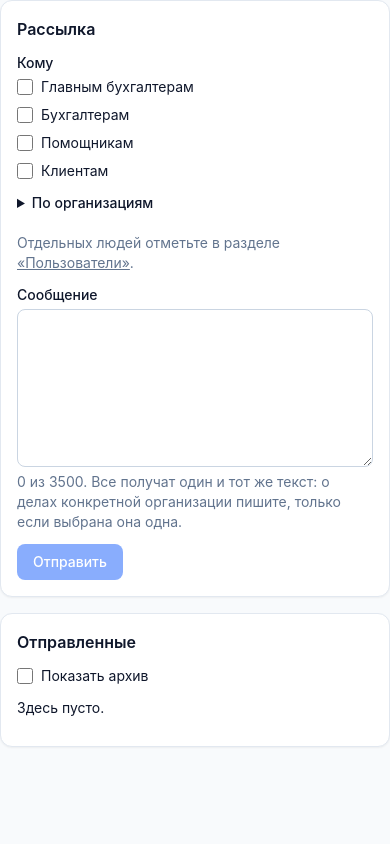
рассылка › отправляет по организациям, по умолчанию клиентам
Click the heading "По организациям": point(93, 202) x1=32 y1=194 x2=153 y2=211
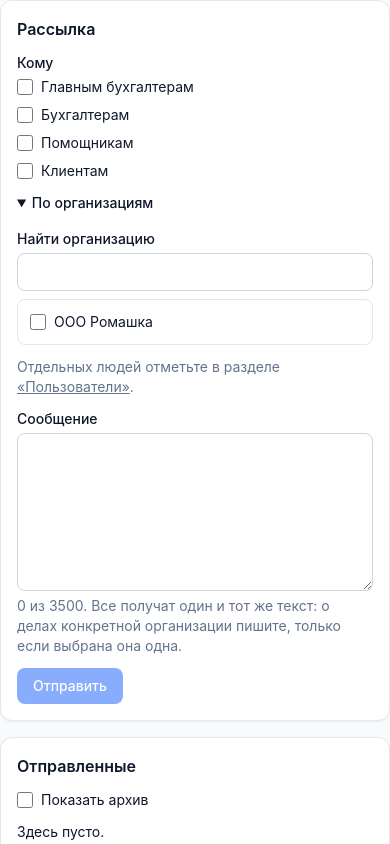
Click the checkbox labelled "ООО Ромашка": point(38, 322) x1=30 y1=314 x2=46 y2=330
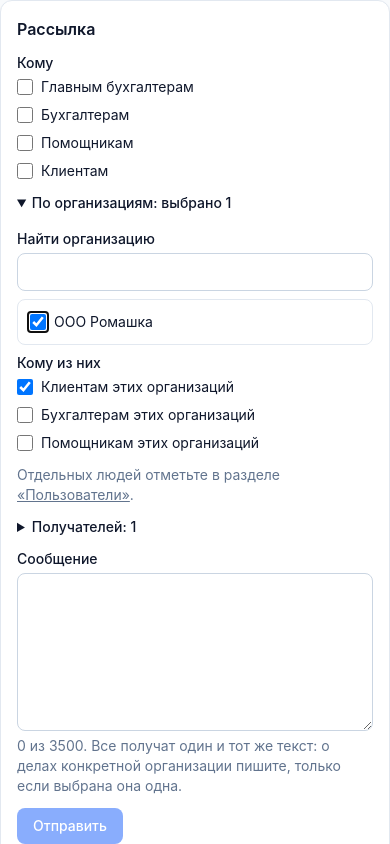
Now the heading "Получателей: 1" is shown, box x1=32 y1=518 x2=136 y2=535
